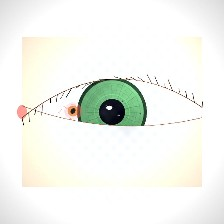foreign_body_visible: (58, 99, 88, 123)
